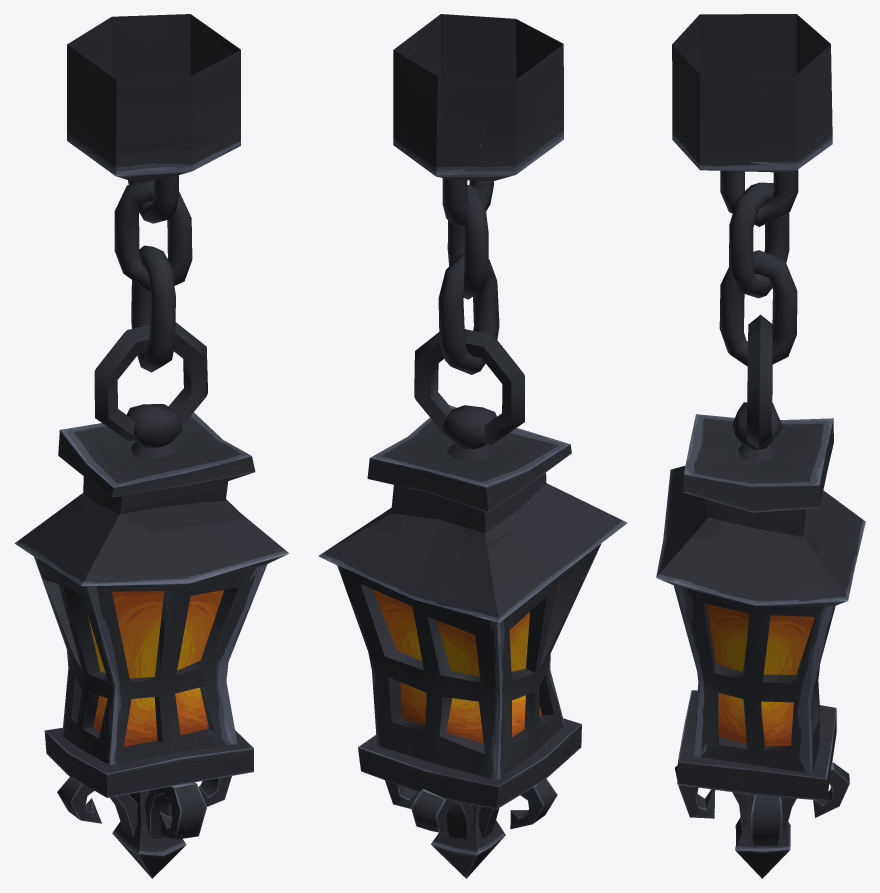
Rendered from SM_PROP_lantern_interior_03.fbx.
The picture shows the model from 3 angles, left to right: view 1: azimuth 30°, elevation 25°; view 2: azimuth 150°, elevation 25°; view 3: azimuth 270°, elevation 25°; orthographic projection.
Parts seen in each view (by area): view 1: SM_PROP_lantern_interior_03; view 2: SM_PROP_lantern_interior_03; view 3: SM_PROP_lantern_interior_03.
Boxes of the visible parts, x1,y1,x2,y2 form: SM_PROP_lantern_interior_03: (14,14,289,878); SM_PROP_lantern_interior_03: (318,14,627,878); SM_PROP_lantern_interior_03: (656,14,865,878).
Bounding box in the file's own units: 34.31 × 123 × 28.02.
